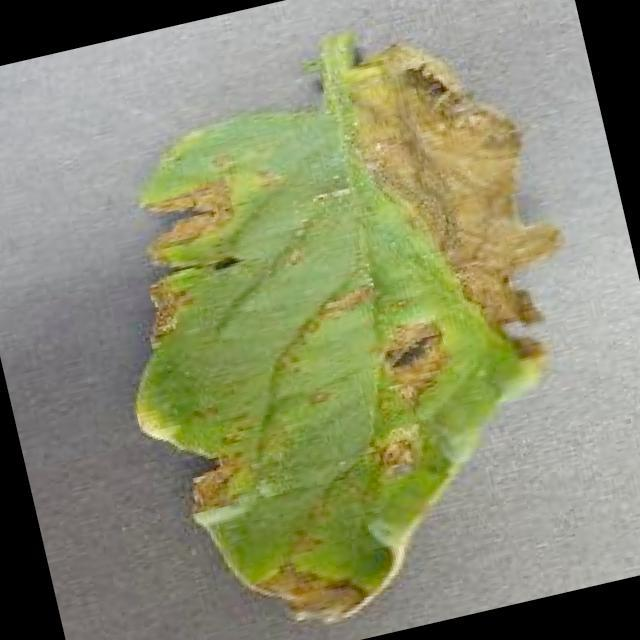Tomato bacterial spot leaf: (64, 9, 640, 640)
